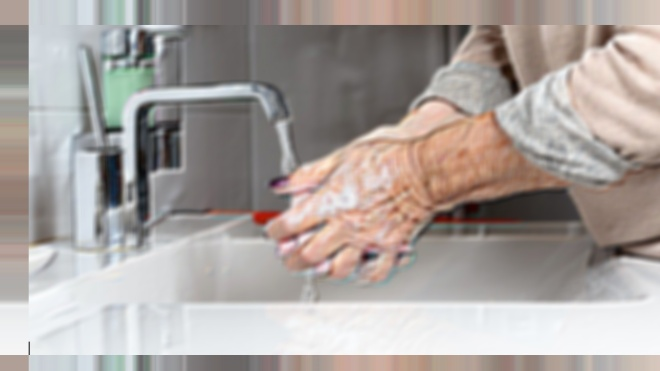washing hand: (190, 61, 434, 297)
